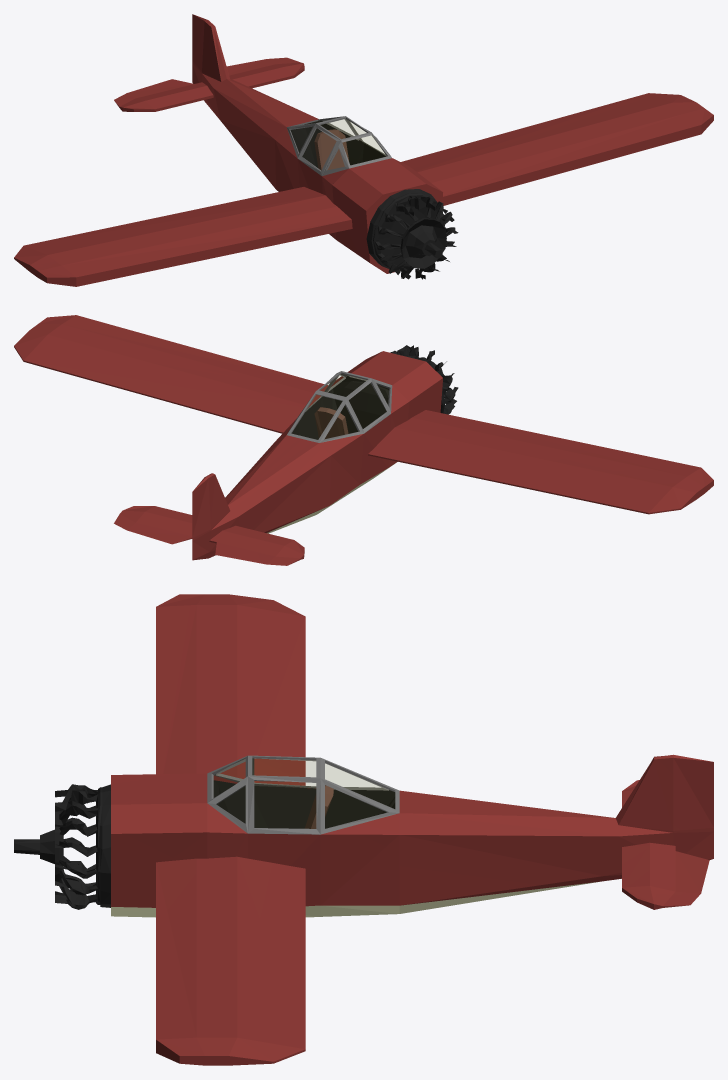
File: Aircraft 3.glb
3 renders of one model, top to bottom at view 1: azimuth 30°, elevation 25°; view 2: azimuth 150°, elevation 25°; view 3: azimuth 270°, elevation 25°, orthographic. The views are drawn at different scales.
Visible parts, largest first — view 1: tripo_node_68e8f659; view 2: tripo_node_68e8f659; view 3: tripo_node_68e8f659.
Boxes of the visible parts, box(x1,y1,x2,y2) form: tripo_node_68e8f659: box(14, 14, 713, 286); tripo_node_68e8f659: box(14, 315, 713, 565); tripo_node_68e8f659: box(14, 594, 713, 1065).
Bounding box in the file's own units: 11.98 × 1.86 × 7.67.
